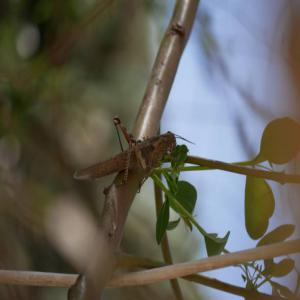locust: (49, 109, 194, 209)
